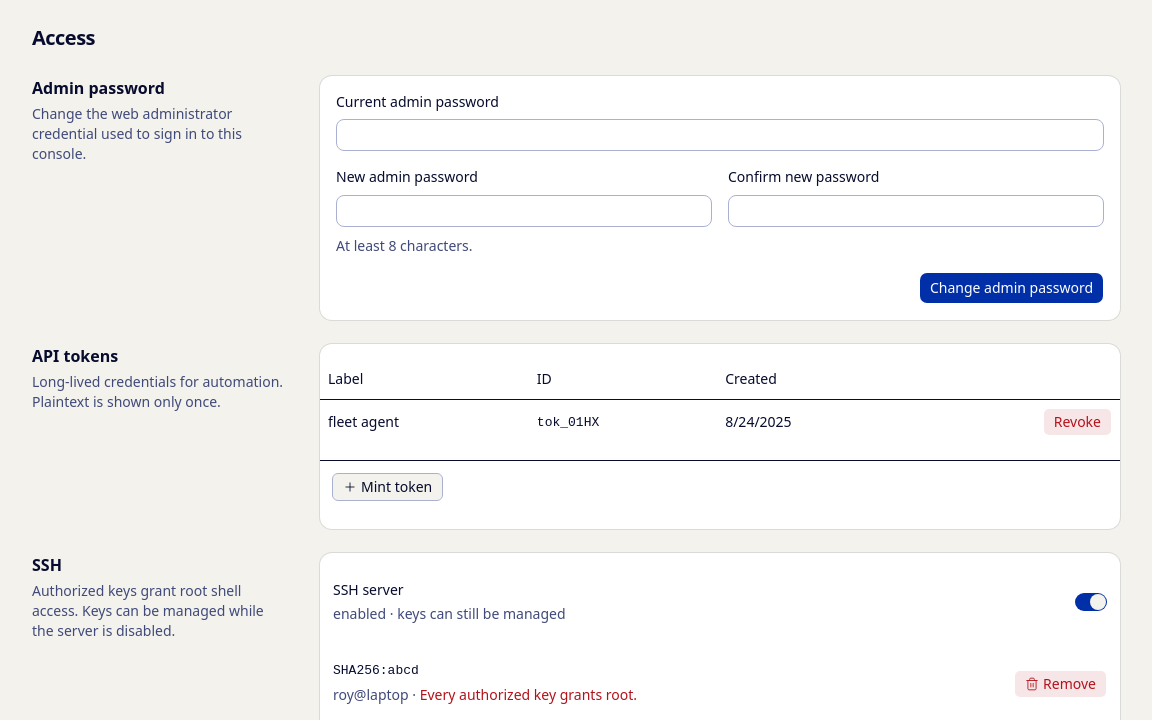
Test: the access page › names the action that failed rather than pooling refusals into one line
The width and height of the screenshot is (1152, 720).
What coordinates should you click on to do the following:
click the button with aria-label "Revoke fleet agent"
I would click on:
 (1077, 422)
Its box is [1043,408,1112,436].
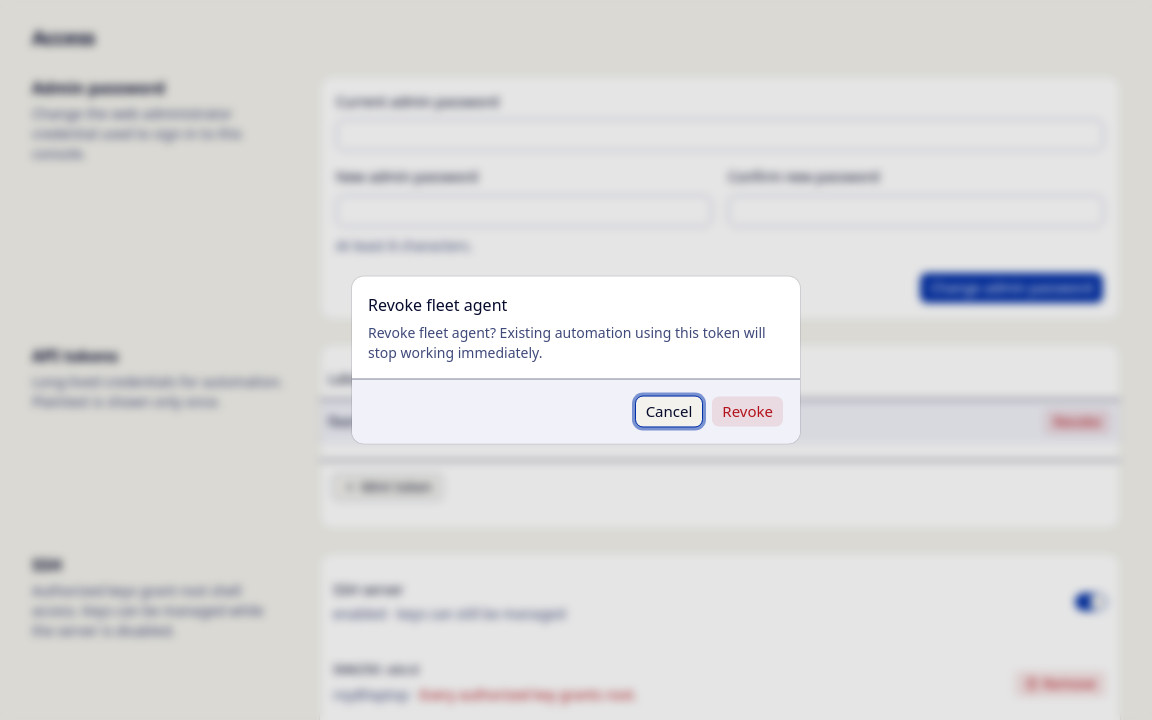
What coordinates should you click on to do the following:
click the button "Revoke"
I would click on:
 (748, 412)
Its box is [711,396,784,428].
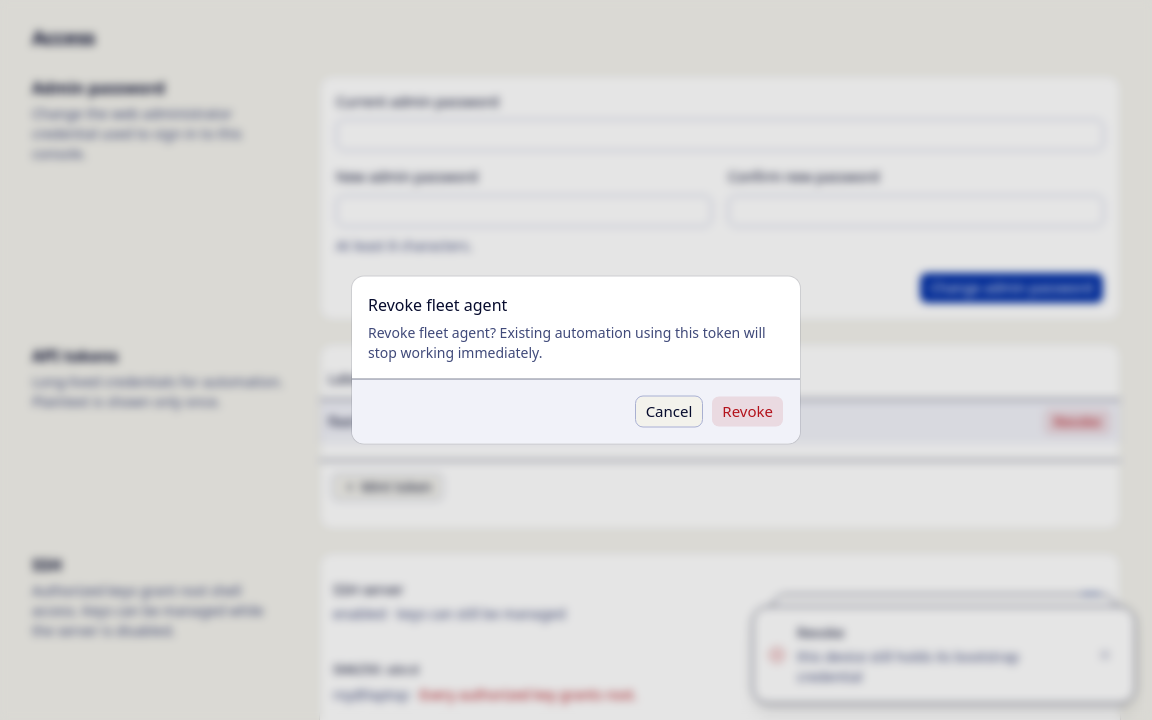
Expected: the dialog is shown, [352,276,800,444]
Expected: the text "this device still holds its bootstrap credential" is shown, [797,647,1019,686]
